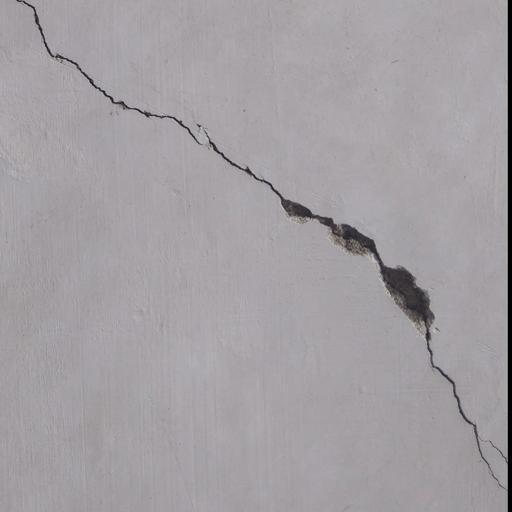major_crack: (8, 0, 508, 494)
